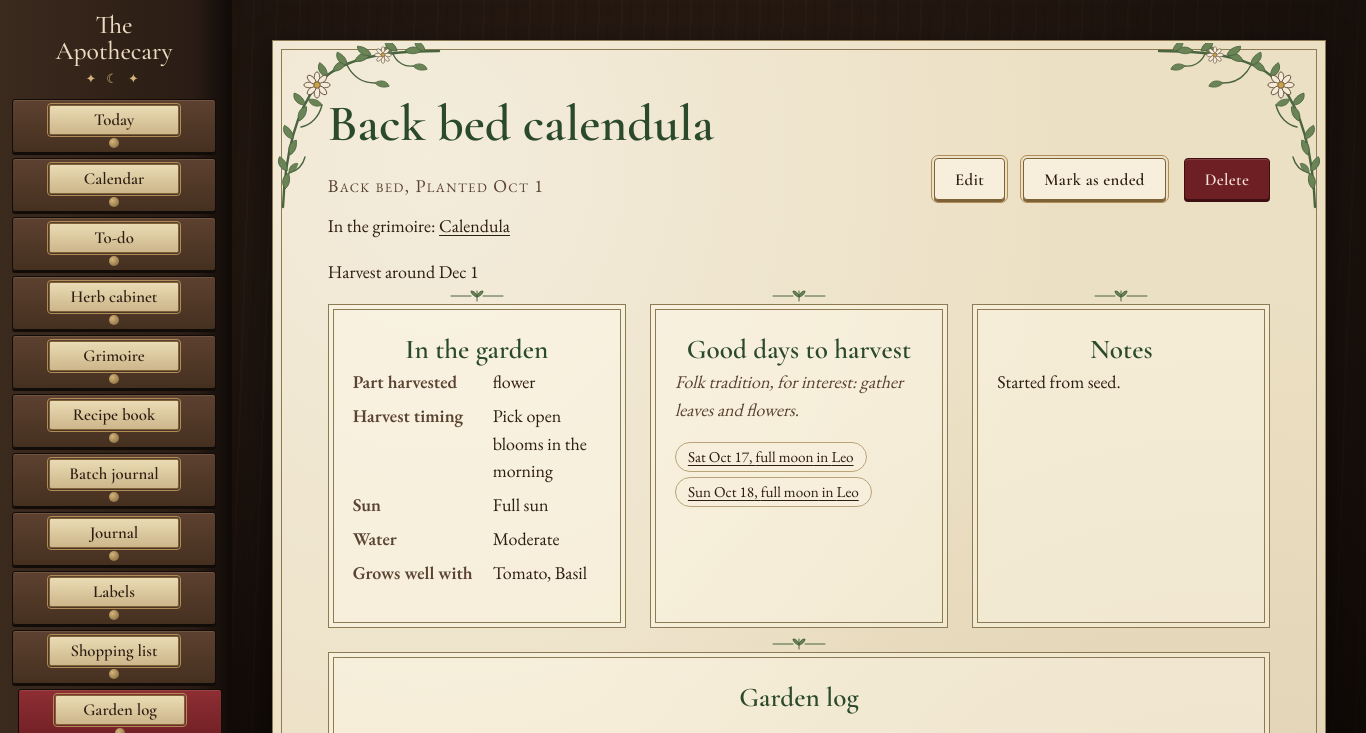
Test: shows a server error inside the ended dialog
This screenshot has width=1366, height=733.
Click the button "Mark as ended". click: (1095, 179)
box: left=1023, top=158, right=1166, bottom=200
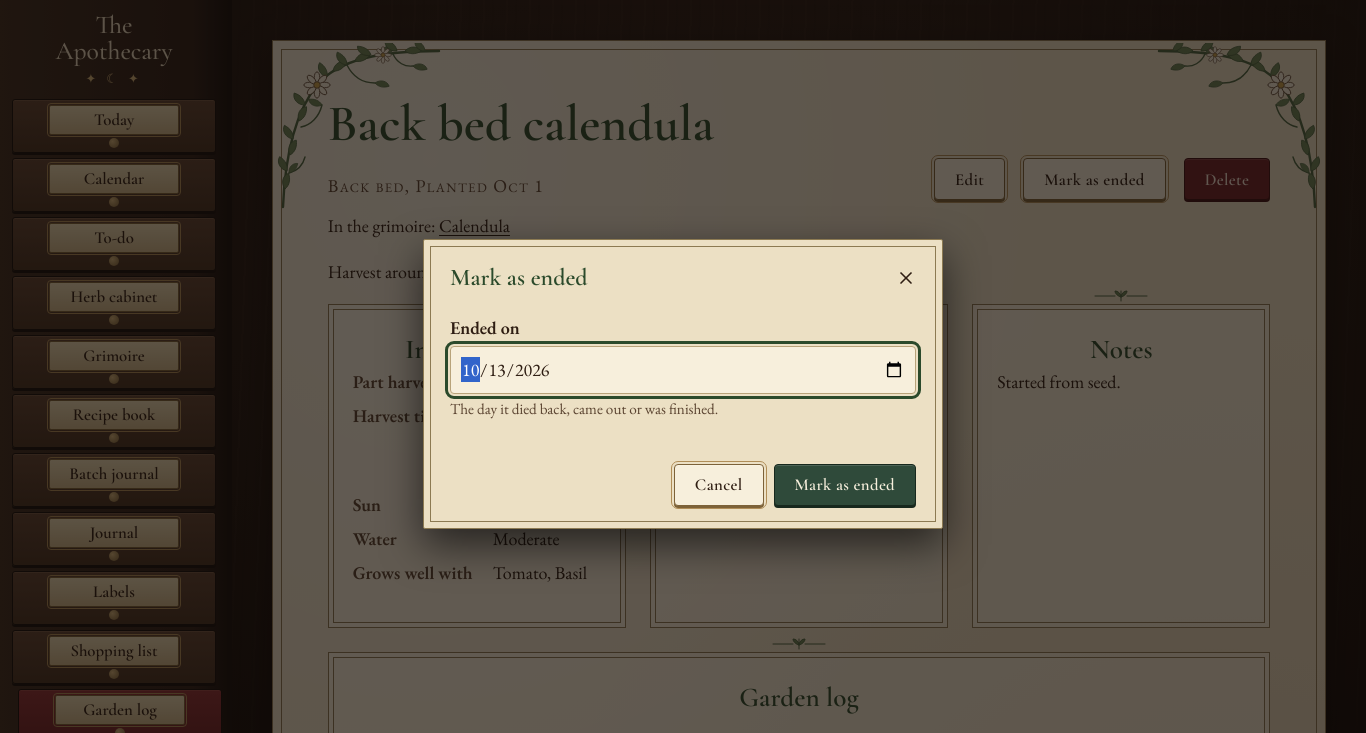
Click the button "Mark as ended". click: (845, 485)
box: left=774, top=464, right=916, bottom=506
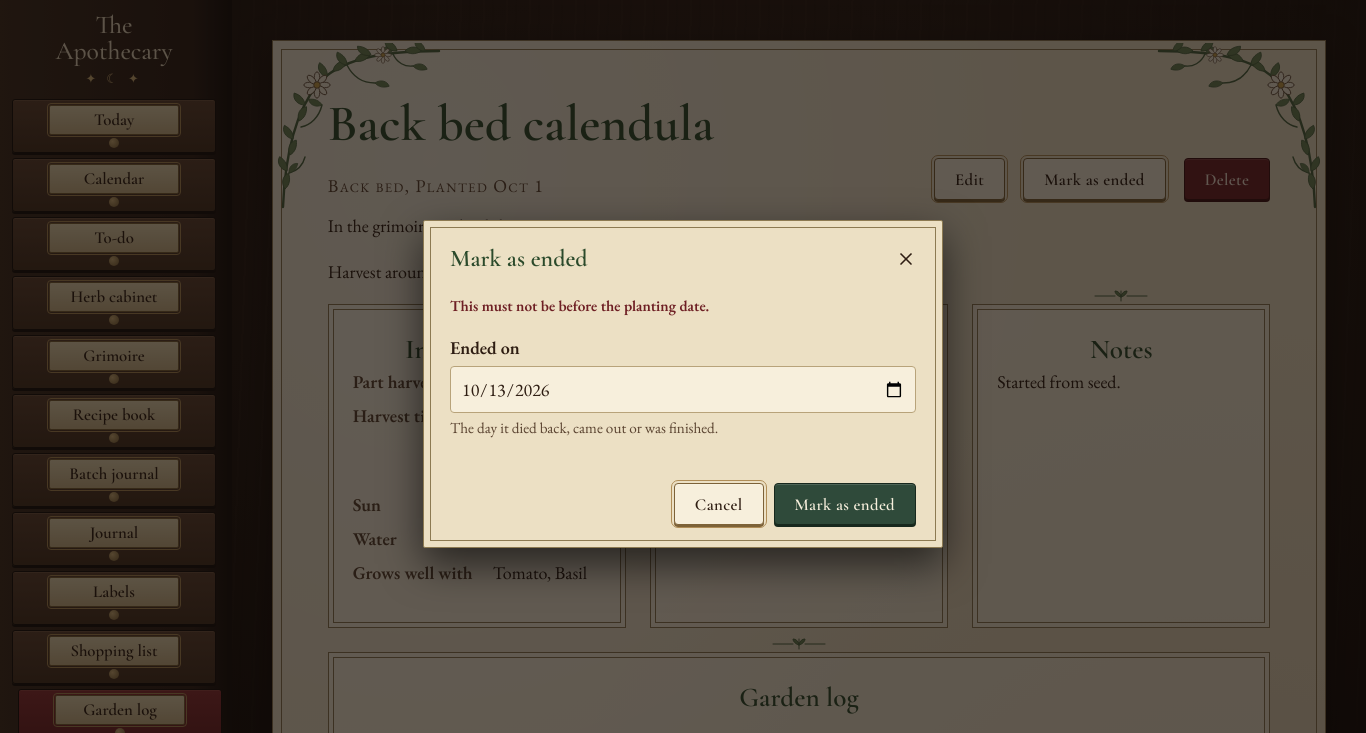
Now the message reads "This must not be before the planting date.", box left=450, top=296, right=709, bottom=316
